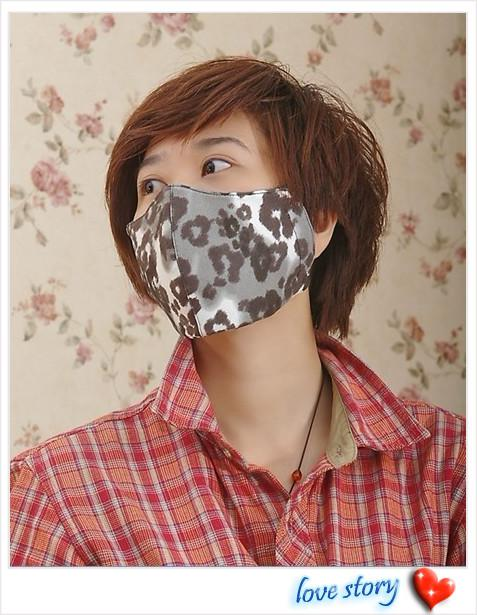OK: (133, 130, 328, 325)
